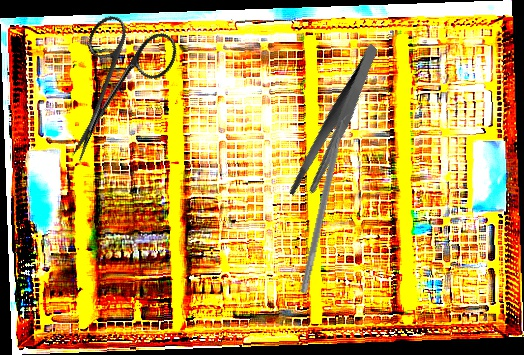Dressing Forceps: (259, 43, 414, 205)
Iris Scissors: (37, 4, 184, 181)
Spatula Surgical: (299, 109, 354, 296)
